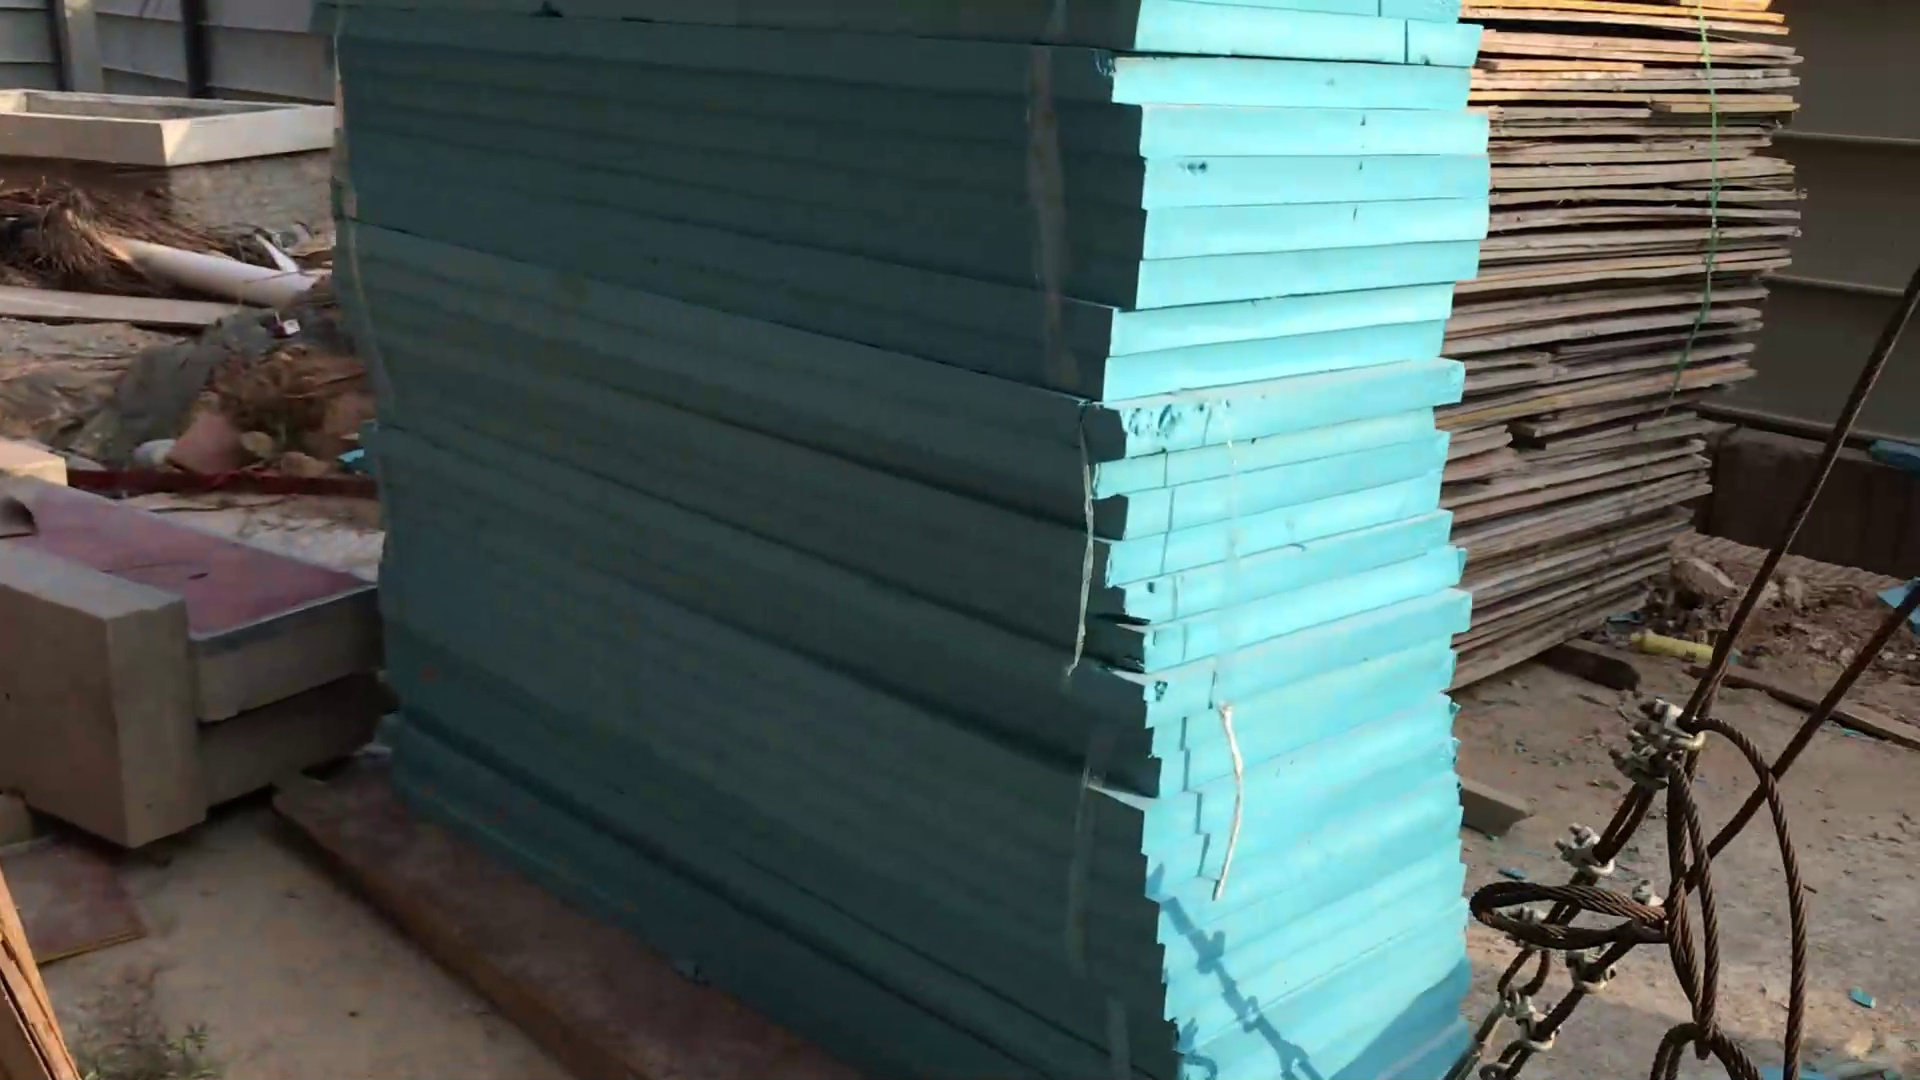board: (1449, 1, 1809, 695)
